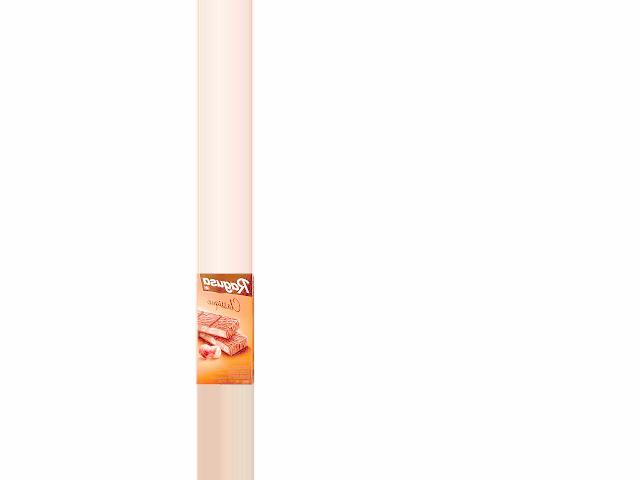chocolate: (189, 274, 257, 385)
